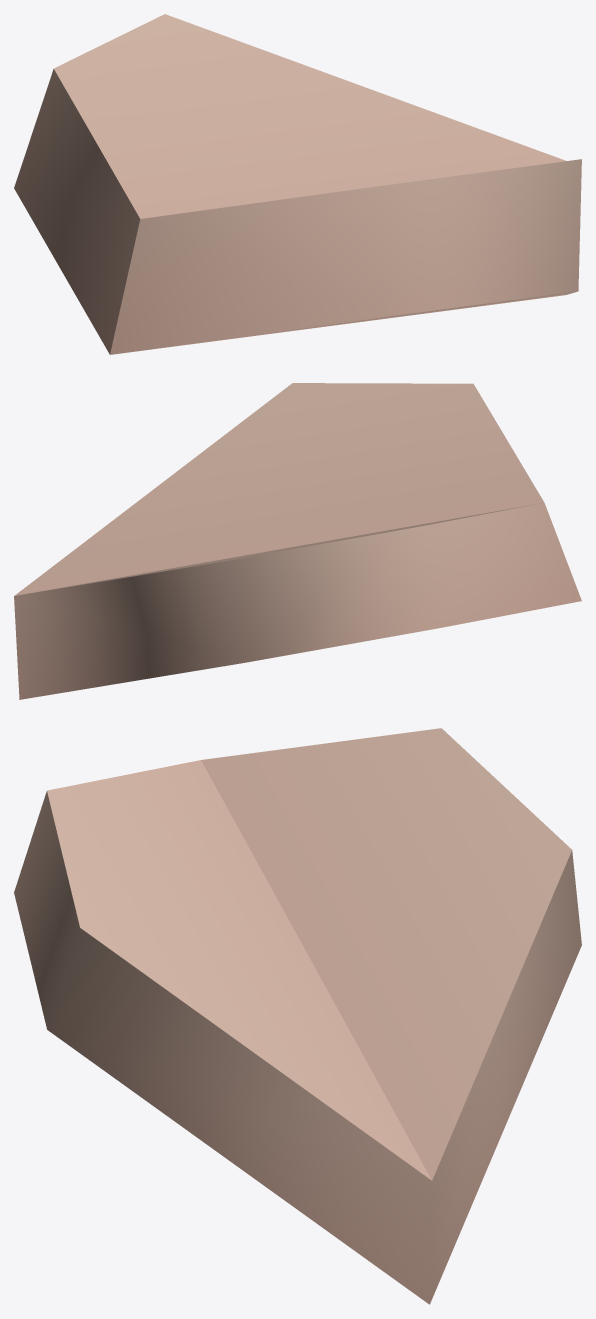
Rendered from (%no-merge) 27.glb.
The picture shows the model from 3 angles, top to bottom: view 1: azimuth 30°, elevation 25°; view 2: azimuth 150°, elevation 25°; view 3: azimuth 270°, elevation 25°; orthographic projection. The views are drawn at different scales.
Parts seen in each view (by area): view 1: (%no-merge) 27; view 2: (%no-merge) 27; view 3: (%no-merge) 27.
Boxes of the visible parts, x1,y1,x2,y2 form: (%no-merge) 27: [14, 14, 581, 354]; (%no-merge) 27: [14, 383, 581, 699]; (%no-merge) 27: [14, 728, 581, 1304].
Size of the model in its own units: 0.166 by 0.0932 by 0.1427.
